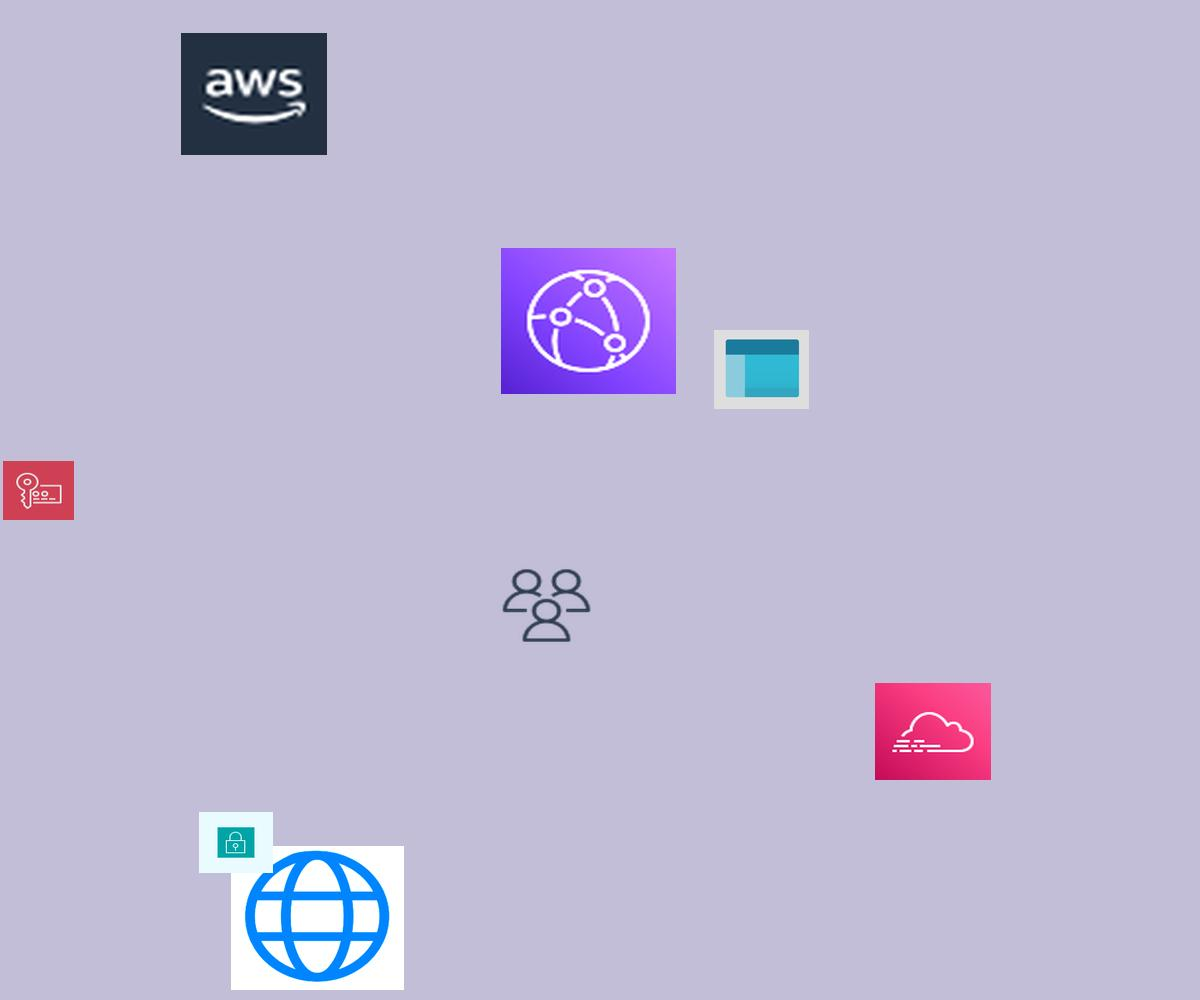AWS-Cloud-logo: (181, 33, 327, 155)
AWS-CloudFront: (501, 248, 676, 394)
AWS-CloudTrail: (875, 683, 991, 780)
AWS-Key-Management-Service: (3, 461, 74, 520)
AWS-Private-subnet: (199, 812, 273, 873)
AWS-Res_Users: (499, 566, 594, 645)
Azure_http: (231, 846, 404, 990)
Azure_management-portal: (714, 330, 809, 409)
